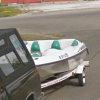Boat: (18, 25, 91, 92)
